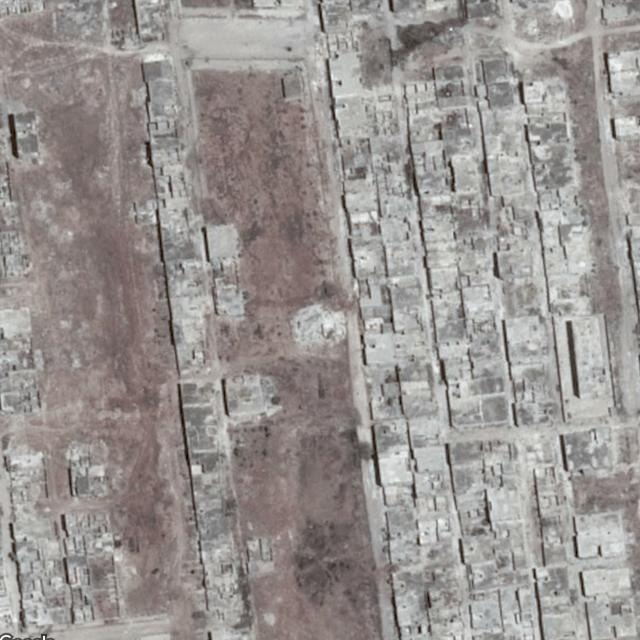damaged_building: (286, 299, 350, 351)
